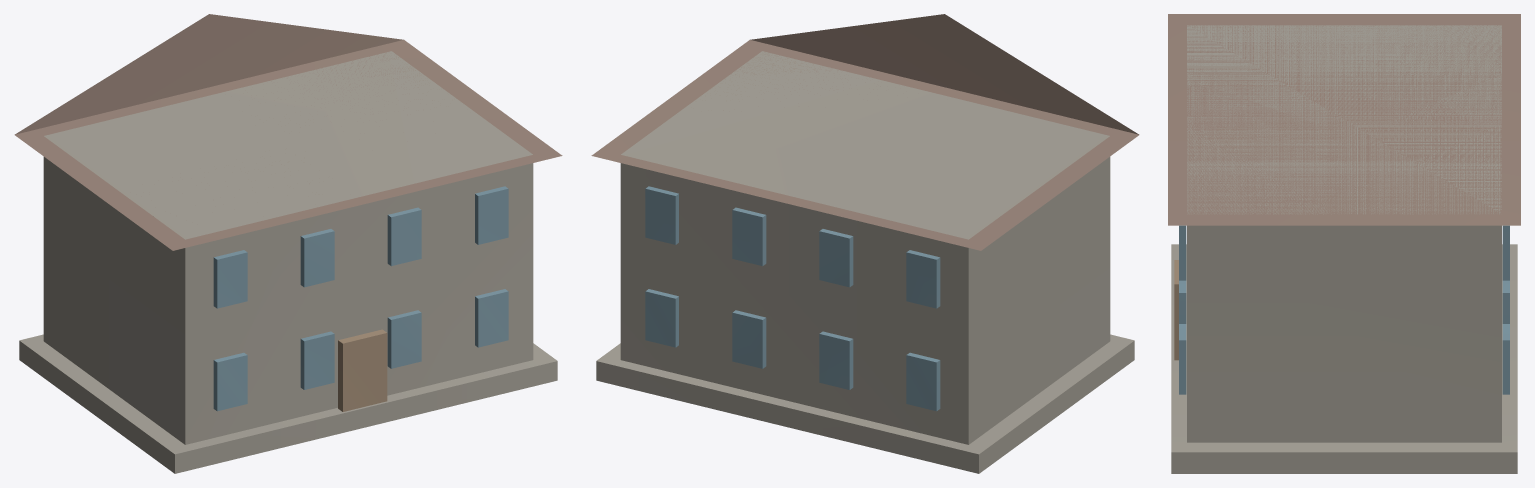
The model's file is townhouse-07.glb.
The picture shows the model from 3 angles, left to right: view 1: azimuth 30°, elevation 25°; view 2: azimuth 150°, elevation 25°; view 3: azimuth 270°, elevation 25°; orthographic projection. The views are drawn at different scales.
Visible parts, largest first — view 1: world; view 2: world; view 3: world.
Boxes of the visible parts, <box> form: world: <box>14,14,562,473</box>; world: <box>591,14,1139,473</box>; world: <box>1168,14,1520,473</box>.
Bounding box in the file's own units: 1.67 × 1.22 × 1.18.
